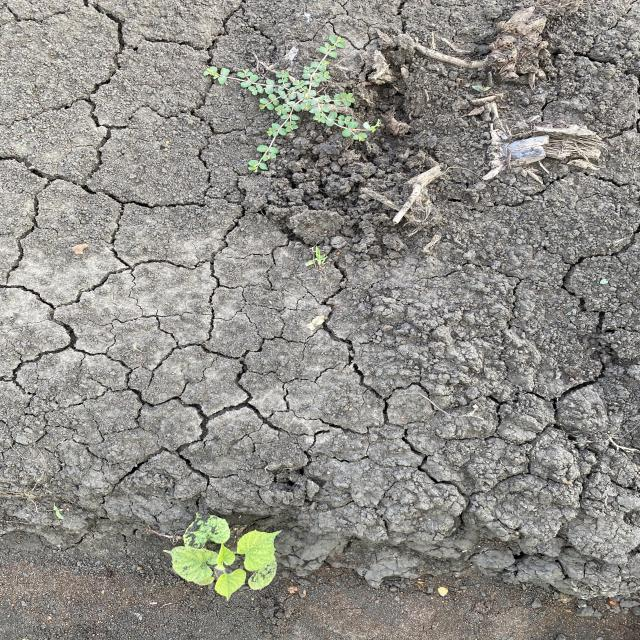MorningGlory: (158, 505, 282, 605)
SpottedSpurge: (201, 32, 384, 175)
